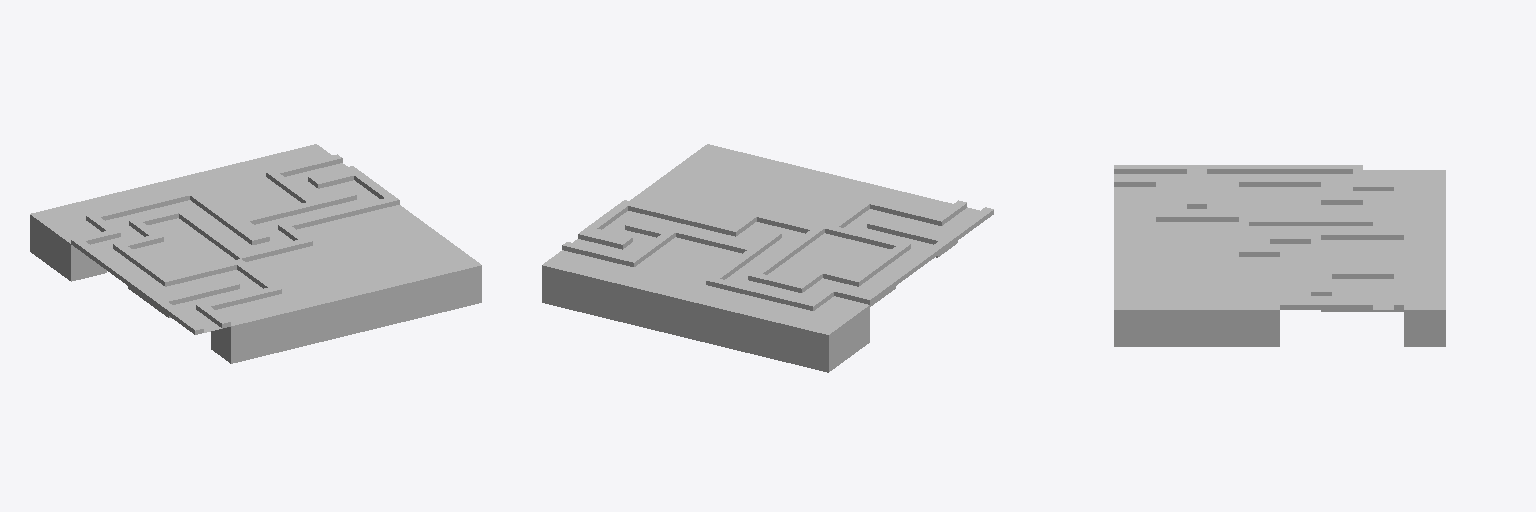
Rendered from YLW.obj.
3 renders of one model, left to right at view 1: azimuth 30°, elevation 25°; view 2: azimuth 150°, elevation 25°; view 3: azimuth 270°, elevation 25°, orthographic.
Visible parts, largest first — view 1: QMazePieceCorner, QMazePieceLine, QMazePieceEmpty 43 (59), QMazePieceEmpty 43 (58), QMazePieceEmpty 43 (114), QMazePieceEmpty 43 (42), QMazePieceEmpty 43 (19), QMazePieceEmpty 43 (31), QMazePieceEmpty 43 (37), QMazePieceEmpty 43 (26), QMazePieceEmpty 43 (113), QMazePieceCorner 1 (+28 smaller); view 2: QMazePieceCorner, QMazePieceLine, QMazePieceEmpty 43 (113), QMazePieceEmpty 43 (111), QMazePieceEmpty 43 (112), QMazePieceEmpty 43 (110), QMazePieceEmpty 43 (107), QMazePieceEmpty 43 (108), QMazePieceEmpty 43 (106), QMazePieceEmpty 43 (109), QMazePieceEmpty 43 (114), QMazePieceCorner 1 (+25 smaller); view 3: QMazePieceCorner, QMazePieceLine, QMazePieceEmpty 43 (19), QMazePieceEmpty 43 (21), QMazePieceEmpty 43 (108), QMazePieceEmpty 43 (20), QMazePieceEmpty 43 (22), QMazePieceCorner 1, QMazePieceEmpty 43 (110), QMazePieceEmpty 43 (112), QMazePieceEmpty 43 (107), QMazePieceEmpty 43 (43) (+25 smaller).
Part boxes in pixels (x1,y1,x2,y2): QMazePieceCorner: (71,170,399,319); QMazePieceLine: (92,154,363,334); QMazePieceEmpty 43 (59): (211,303,266,363); QMazePieceEmpty 43 (58): (247,294,302,354); QMazePieceEmpty 43 (114): (50,221,106,281); QMazePieceEmpty 43 (42): (283,285,338,345); QMazePieceEmpty 43 (19): (427,250,481,311); QMazePieceEmpty 43 (31): (354,268,410,328); QMazePieceEmpty 43 (37): (319,276,374,337); QMazePieceEmpty 43 (26): (390,259,445,319); QMazePieceEmpty 43 (113): (30,205,85,265); QMazePieceCorner 1: (266,163,320,190); QMazePieceCorner: (584,198,973,310); QMazePieceLine: (562,200,993,302); QMazePieceEmpty 43 (113): (793,311,848,372); QMazePieceEmpty 43 (111): (721,294,776,354); QMazePieceEmpty 43 (112): (757,303,812,363); QMazePieceEmpty 43 (110): (685,285,740,345); QMazePieceEmpty 43 (107): (613,268,669,328); QMazePieceEmpty 43 (108): (542,250,596,311); QMazePieceEmpty 43 (106): (649,276,704,337); QMazePieceEmpty 43 (109): (578,259,633,319); QMazePieceEmpty 43 (114): (814,296,869,357); QMazePieceCorner 1: (598,239,654,266); QMazePieceCorner: (1156,165,1403,309); QMazePieceLine: (1114,165,1403,309); QMazePieceEmpty 43 (19): (1114,292,1155,346); QMazePieceEmpty 43 (21): (1197,292,1238,346); QMazePieceEmpty 43 (108): (1404,292,1445,346); QMazePieceEmpty 43 (20): (1239,292,1279,346); QMazePieceEmpty 43 (22): (1156,292,1196,346); QMazePieceCorner 1: (1363,270,1403,291); QMazePieceEmpty 43 (110): (1404,222,1445,239); QMazePieceEmpty 43 (112): (1404,187,1445,204); QMazePieceEmpty 43 (107): (1404,257,1445,274); QMazePieceEmpty 43 (43): (1197,222,1238,239).
Size of the model in its own units: 40 by 5.62 by 40.